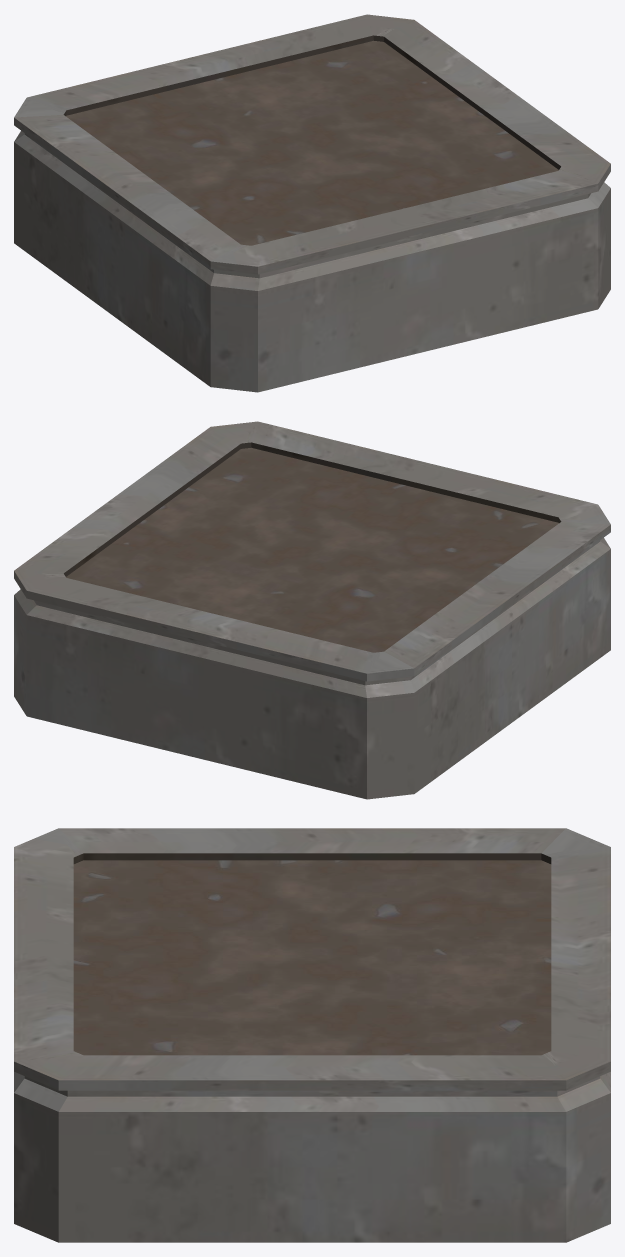
File: Prop_Planter_Single.glb
3 renders of one model, top to bottom at view 1: azimuth 30°, elevation 25°; view 2: azimuth 150°, elevation 25°; view 3: azimuth 270°, elevation 25°, orthographic. The views are drawn at different scales.
Visible parts, largest first — view 1: Prop_Planter_Single; view 2: Prop_Planter_Single; view 3: Prop_Planter_Single.
Part boxes in pixels (<box>): Prop_Planter_Single: <box>14,14,610,392</box>; Prop_Planter_Single: <box>14,421,610,799</box>; Prop_Planter_Single: <box>14,828,610,1242</box>.
Size of the model in its own units: 2 by 0.6 by 2.
2 materials, 2 textured.
